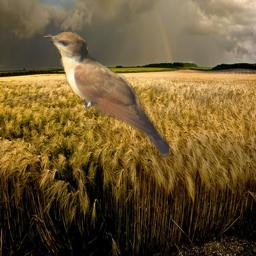Cuckoo: (42, 31, 169, 157)
